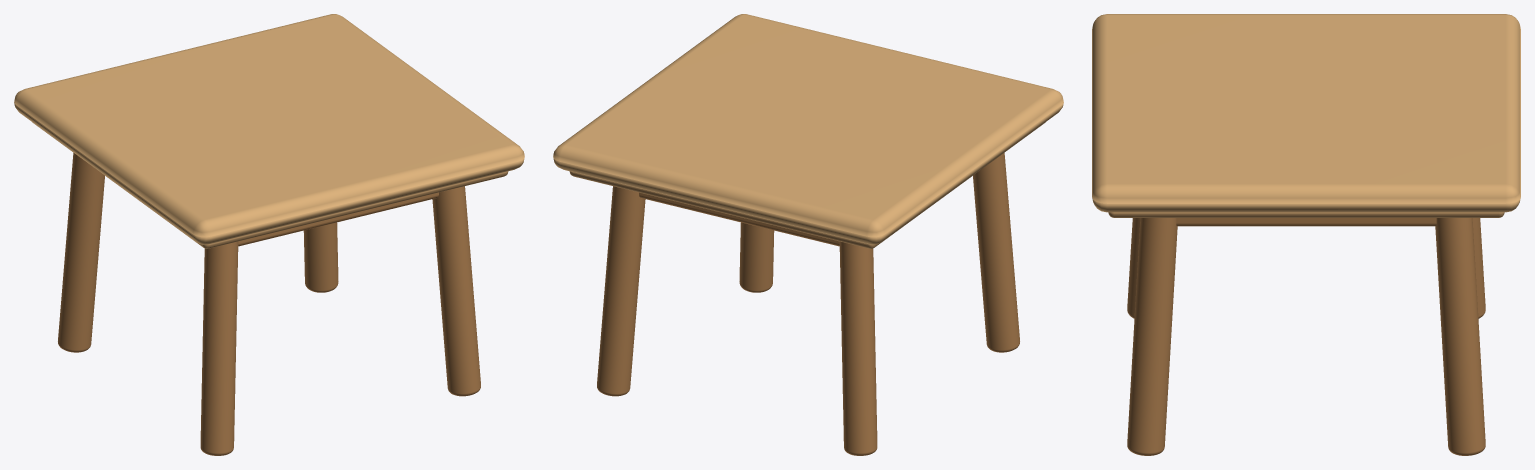
The model's file is table-square.glb.
The picture shows the model from 3 angles, left to right: view 1: azimuth 30°, elevation 25°; view 2: azimuth 150°, elevation 25°; view 3: azimuth 270°, elevation 25°; orthographic projection. The views are drawn at different scales.
Visible parts, largest first — view 1: table-square; view 2: table-square; view 3: table-square.
Boxes of the visible parts, x1,y1,x2,y2 form: table-square: (14,14,524,455); table-square: (553,14,1063,455); table-square: (1092,14,1520,455).
Bounding box in the file's own units: 1 × 0.7304 × 1.
